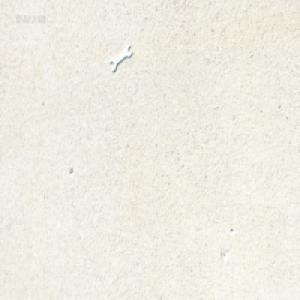Wrench: (110, 45, 132, 74)
